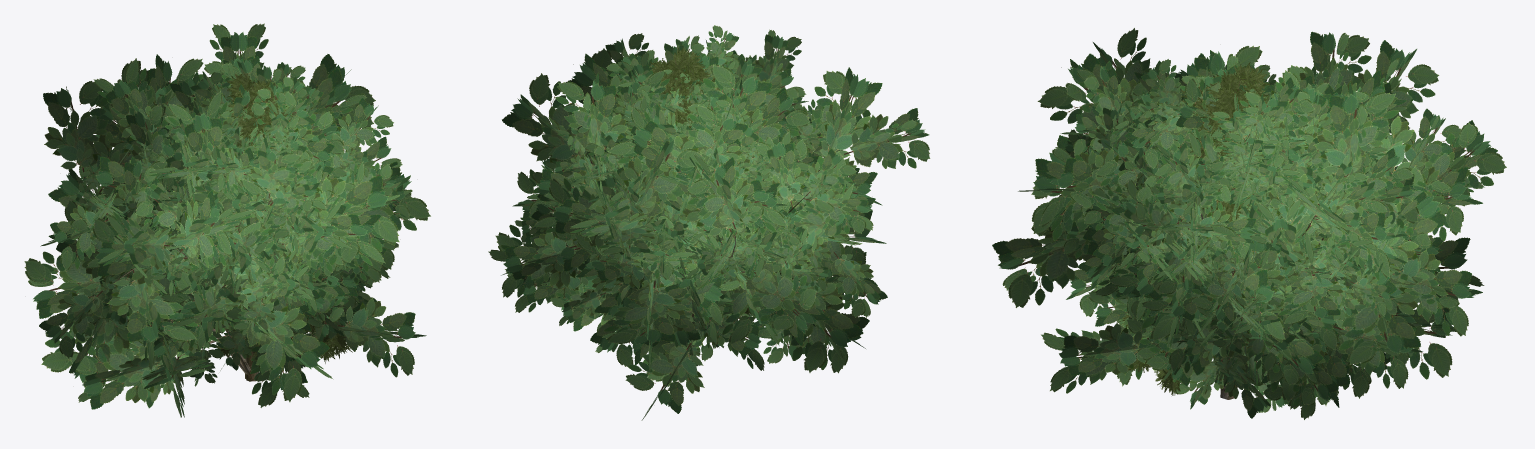
File: trees.glb
The picture shows the model from 3 angles, left to right: view 1: azimuth 30°, elevation 25°; view 2: azimuth 150°, elevation 25°; view 3: azimuth 270°, elevation 25°; orthographic projection. The views are drawn at different scales.
Parts seen in each view (by area): view 1: bush_1, bush_0, oak_0, ash_0, oak_1, ash_1, aspen_0, pine_1, pine_0, pine_2; view 2: bush_1, bush_0, oak_0, ash_0, ash_1, oak_1, aspen_0, pine_2, pine_1, pine_0; view 3: bush_0, bush_1, ash_0, oak_0, oak_1, ash_1, aspen_0, pine_2, pine_1, pine_0.
Boxes of the visible parts, x1,y1,x2,y2 form: bush_1: (24,65,430,417); bush_0: (77,23,426,407); oak_0: (102,72,410,379); ash_0: (125,56,401,381); oak_1: (168,56,411,334); ash_1: (118,56,399,323); aspen_0: (160,62,371,298); pine_1: (215,80,352,363); pine_0: (174,82,314,367); pine_2: (227,71,345,350); bush_1: (533,29,930,420); bush_0: (488,33,810,373); oak_0: (557,25,828,311); ash_0: (528,36,793,332); ash_1: (565,65,828,251); oak_1: (577,52,823,291); aspen_0: (567,35,800,242); pine_2: (650,52,705,123); pine_1: (665,47,703,127); pine_0: (605,53,751,316); bush_0: (1018,31,1506,402); bush_1: (992,28,1484,409); ash_0: (1072,78,1354,418); oak_0: (1057,59,1418,419); oak_1: (1063,62,1374,383); ash_1: (1063,77,1387,386); aspen_0: (1101,66,1344,317); pine_2: (1154,62,1269,395); pine_1: (1119,71,1257,372); pine_0: (1180,72,1327,359).
Bounding box in the file's own units: 1.32 × 1.09 × 1.47.
4 materials, 4 textured.
